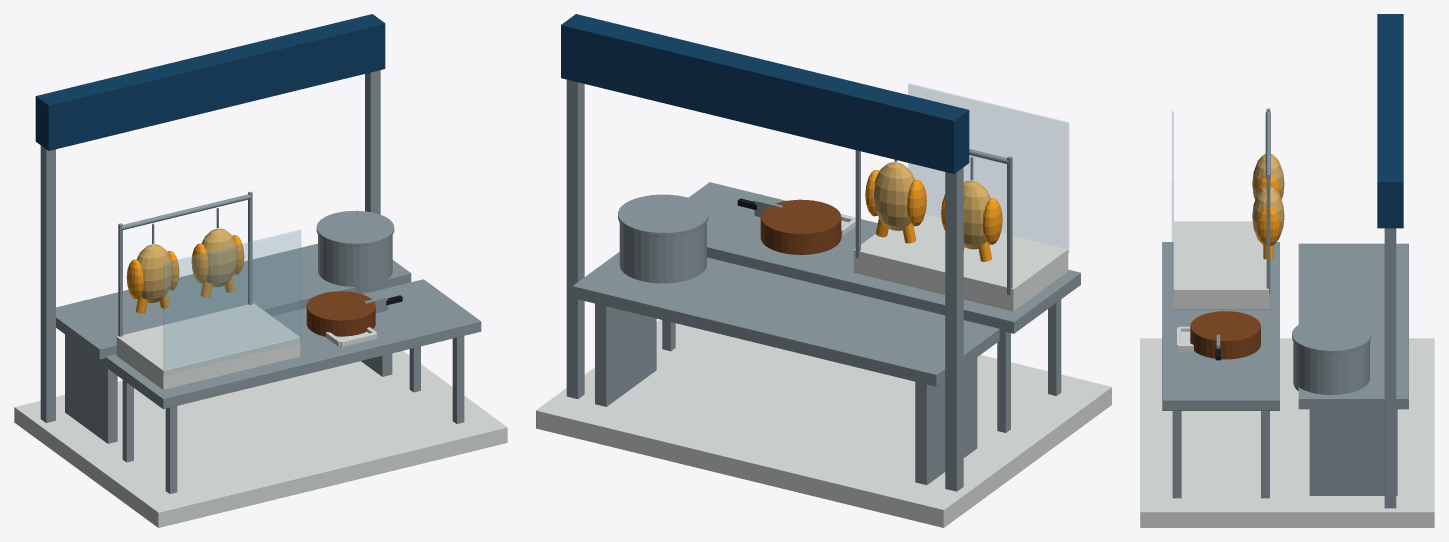
3 views of the same model, side by side, from view 1: azimuth 30°, elevation 25°; view 2: azimuth 150°, elevation 25°; view 3: azimuth 270°, elevation 25° (orthographic). The views are drawn at different scales.
Parts seen in each view (by area): view 1: STALL_Base, STALL_Header, DISPLAY_ClearFront, COUNTER_Stainless, PREP_RearWorktop, DISPLAY_Base, STALL_Post, PREP_Support, RICE_Pot, CHOPPING_Block, RICE_Lid, STALL_Post.001 (+6 smaller); view 2: STALL_Base, STALL_Header, PREP_RearWorktop, DISPLAY_ClearFront, COUNTER_Stainless, DISPLAY_Base, STALL_Post, STALL_Post.001, PREP_Support.001, PREP_Support, RICE_Pot, CHOPPING_Block (+8 smaller); view 3: STALL_Base, PREP_RearWorktop, COUNTER_Stainless, DISPLAY_Base, PREP_Support.001, STALL_Header, STALL_Post.001, RICE_Pot, CHOPPING_Block, RICE_Lid, COUNTER_Leg.003, POULTRY_Body (+6 smaller).
Part boxes in pixels (<box>): STALL_Base: <box>14,351,507,527</box>; STALL_Header: <box>35,14,385,150</box>; DISPLAY_ClearFront: <box>163,230,300,375</box>; COUNTER_Stainless: <box>105,279,481,409</box>; PREP_RearWorktop: <box>56,243,411,359</box>; DISPLAY_Base: <box>116,303,300,389</box>; STALL_Post: <box>40,145,55,422</box>; PREP_Support: <box>65,334,117,443</box>; RICE_Pot: <box>318,235,392,291</box>; CHOPPING_Block: <box>306,291,375,336</box>; RICE_Lid: <box>316,210,394,246</box>; STALL_Post.001: <box>365,70,380,214</box>; STALL_Base: <box>536,319,1111,527</box>; STALL_Header: <box>561,14,969,173</box>; PREP_RearWorktop: <box>572,252,999,386</box>; DISPLAY_ClearFront: <box>908,84,1068,253</box>; COUNTER_Stainless: <box>688,182,1080,333</box>; DISPLAY_Base: <box>853,214,1068,311</box>; STALL_Post: <box>945,167,963,491</box>; STALL_Post.001: <box>566,79,584,398</box>; PREP_Support.001: <box>595,303,656,406</box>; PREP_Support: <box>915,357,977,484</box>; RICE_Pot: <box>619,222,706,283</box>; CHOPPING_Block: <box>760,199,841,254</box>; STALL_Base: <box>1140,338,1434,527</box>; PREP_RearWorktop: <box>1298,243,1408,409</box>; COUNTER_Stainless: <box>1162,242,1279,410</box>; DISPLAY_Base: <box>1173,221,1268,309</box>; PREP_Support.001: <box>1309,409,1397,495</box>; STALL_Header: <box>1377,14,1403,228</box>; STALL_Post.001: <box>1384,228,1396,508</box>; RICE_Pot: <box>1293,341,1369,394</box>; CHOPPING_Block: <box>1190,311,1260,359</box>; RICE_Lid: <box>1292,317,1371,353</box>; COUNTER_Leg.003: <box>1172,411,1181,498</box>; POULTRY_Body: <box>1252,186,1284,244</box>.
Size of the model in its own units: 2.8 by 2.58 by 2.
